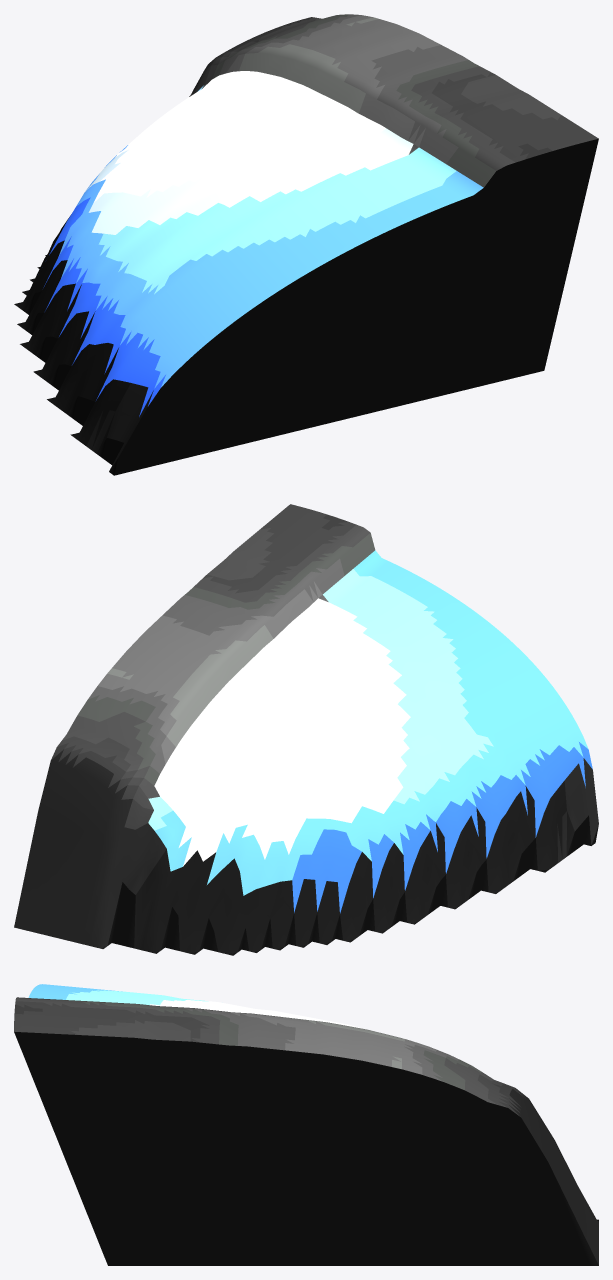
The model's file is time_capsule_250.glb.
3 renders of one model, top to bottom at view 1: azimuth 30°, elevation 25°; view 2: azimuth 150°, elevation 25°; view 3: azimuth 270°, elevation 25°, orthographic. The views are drawn at different scales.
Visible parts, largest first — view 1: time_capsule_250; view 2: time_capsule_250; view 3: time_capsule_250.
Boxes of the visible parts, bbox=[...] form: time_capsule_250: bbox=[14, 14, 598, 475]; time_capsule_250: bbox=[14, 504, 598, 955]; time_capsule_250: bbox=[14, 984, 598, 1265].
Size of the model in its own units: 23.5 by 14.2 by 32.17.
